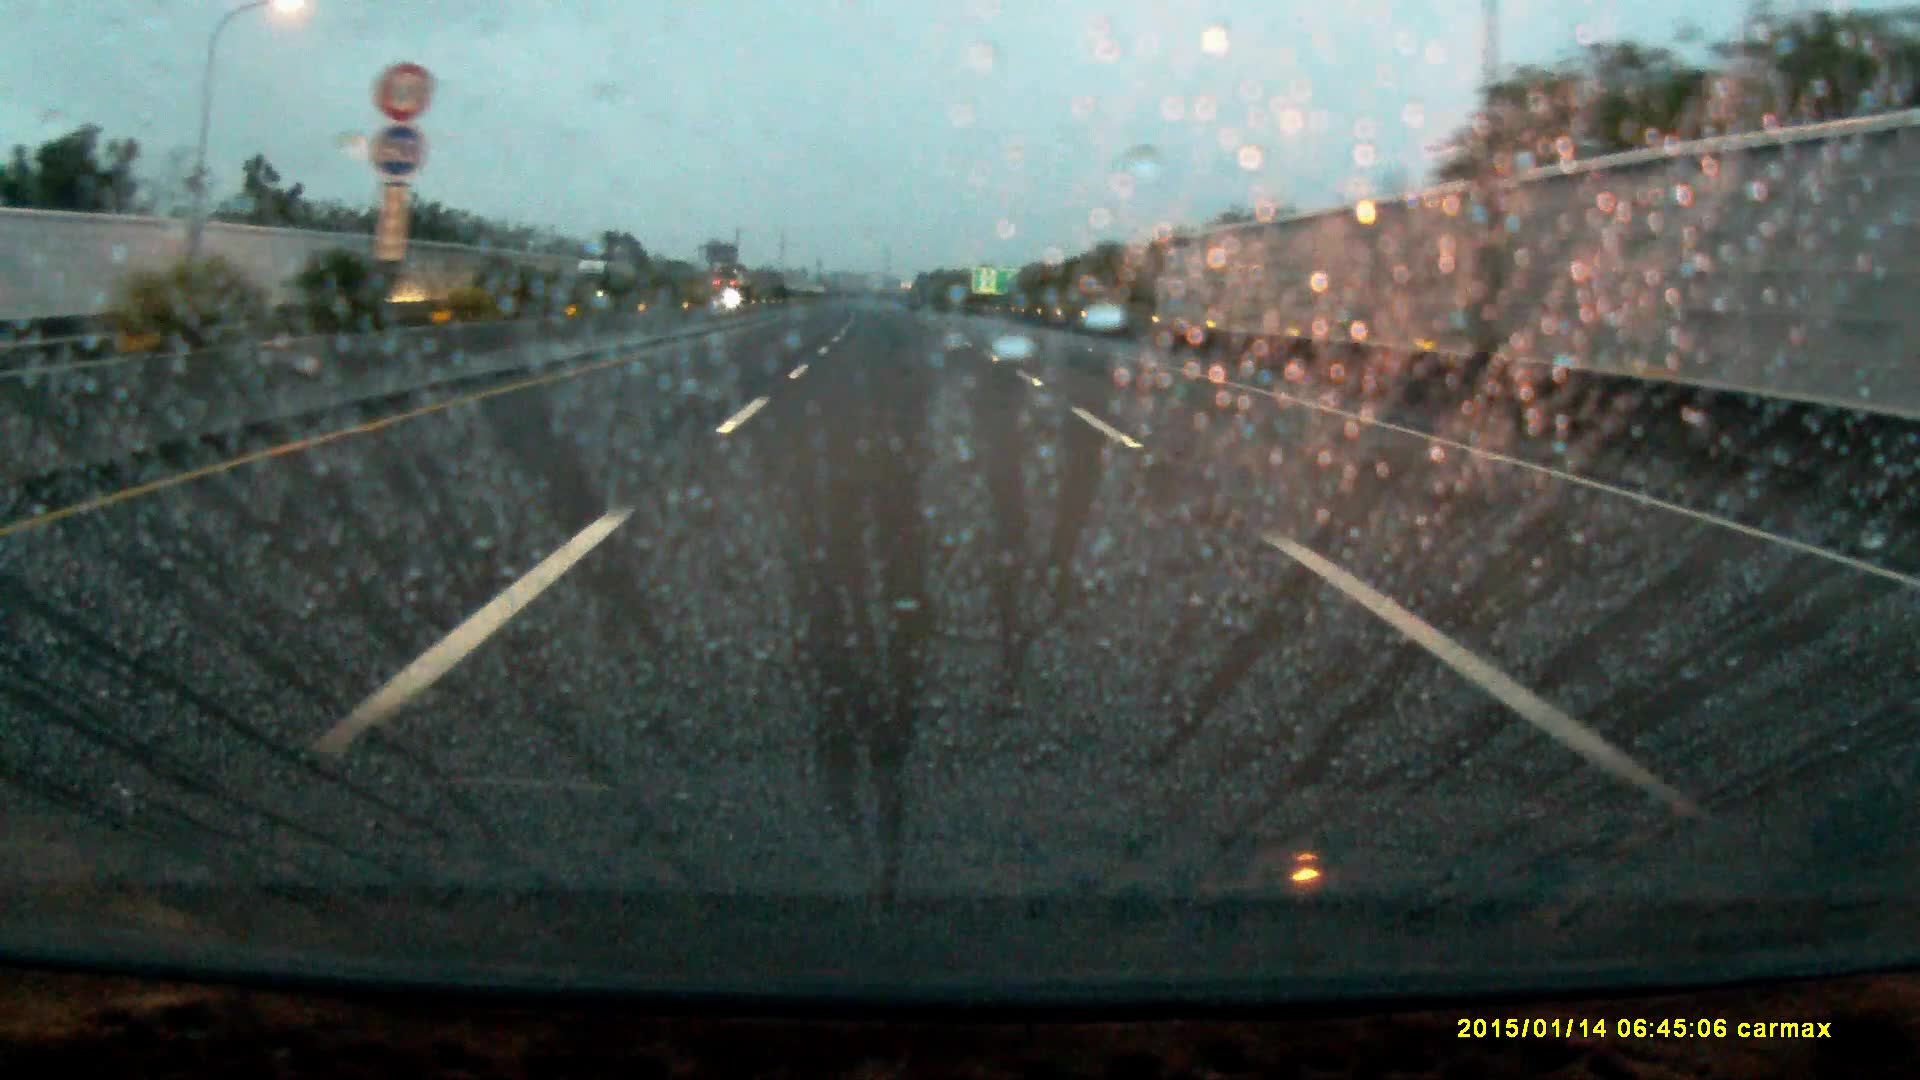vehicle: (571, 257, 629, 301), (711, 274, 746, 306)
